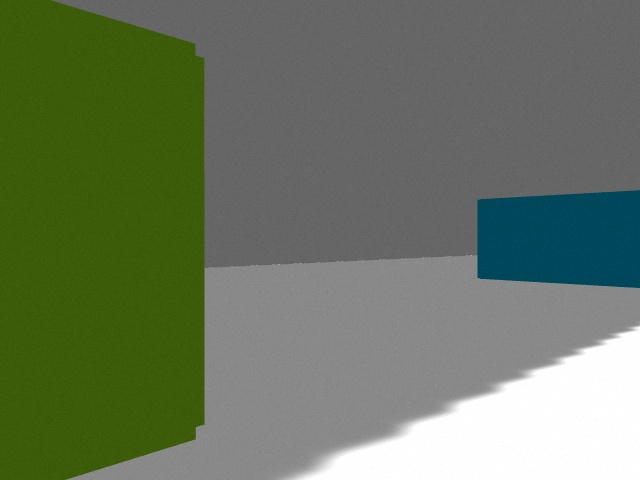blue_drop_zone: (477, 190, 640, 288)
green_drop_zone: (0, 0, 205, 480)
